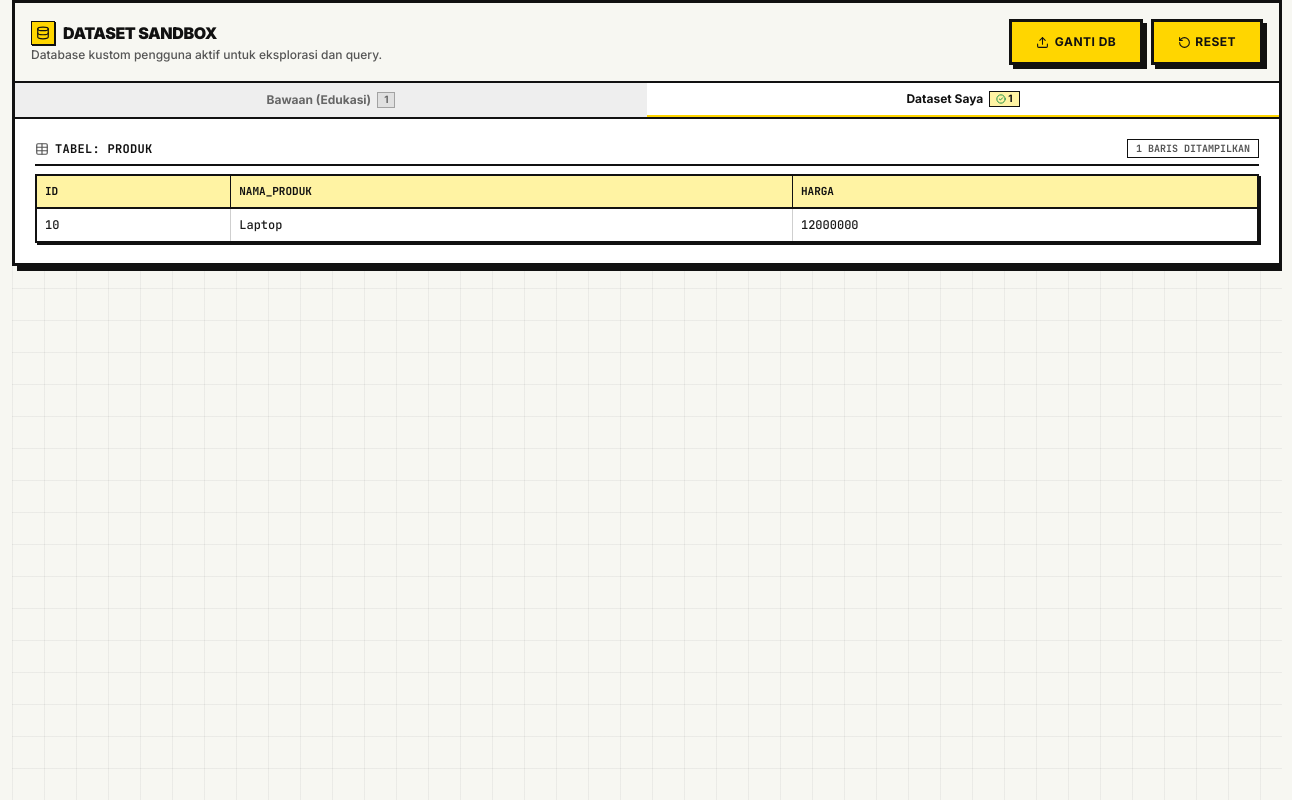
Test case: DatasetPreview Component › switches between educational and custom dataset tabs
Expected: the text "TABEL: produk" is shown, [35,141,152,157]
Expected: the text "Laptop" is shown, [231,208,792,241]
Click Bawaan (Edukasi) tab
What coordinates should you click on to do the following:
click the button "Bawaan (Edukasi) 1"
I would click on:
 (331, 100)
Its box is [15,83,647,117].
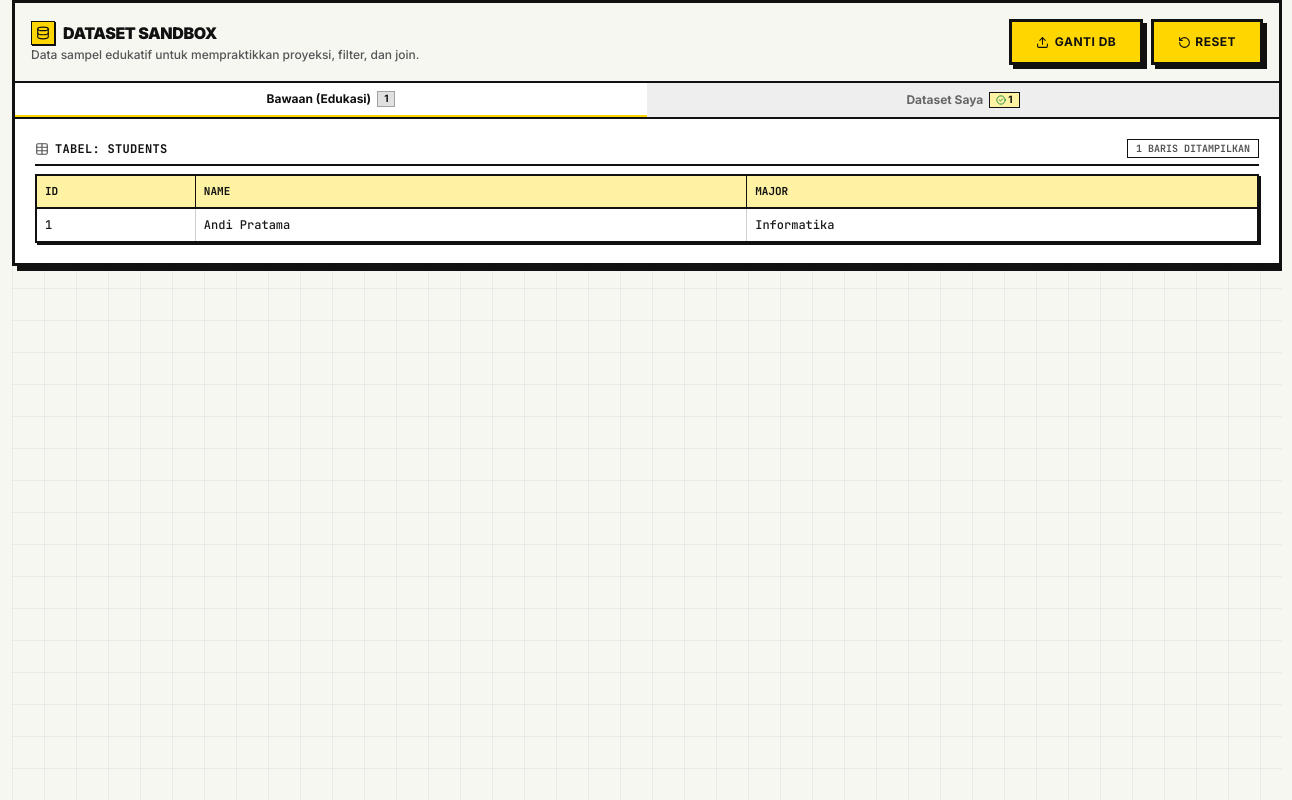
Now the text "TABEL: students" is shown, box [35,141,168,157]
Now the text "Andi Pratama" is shown, box [195,208,747,241]
